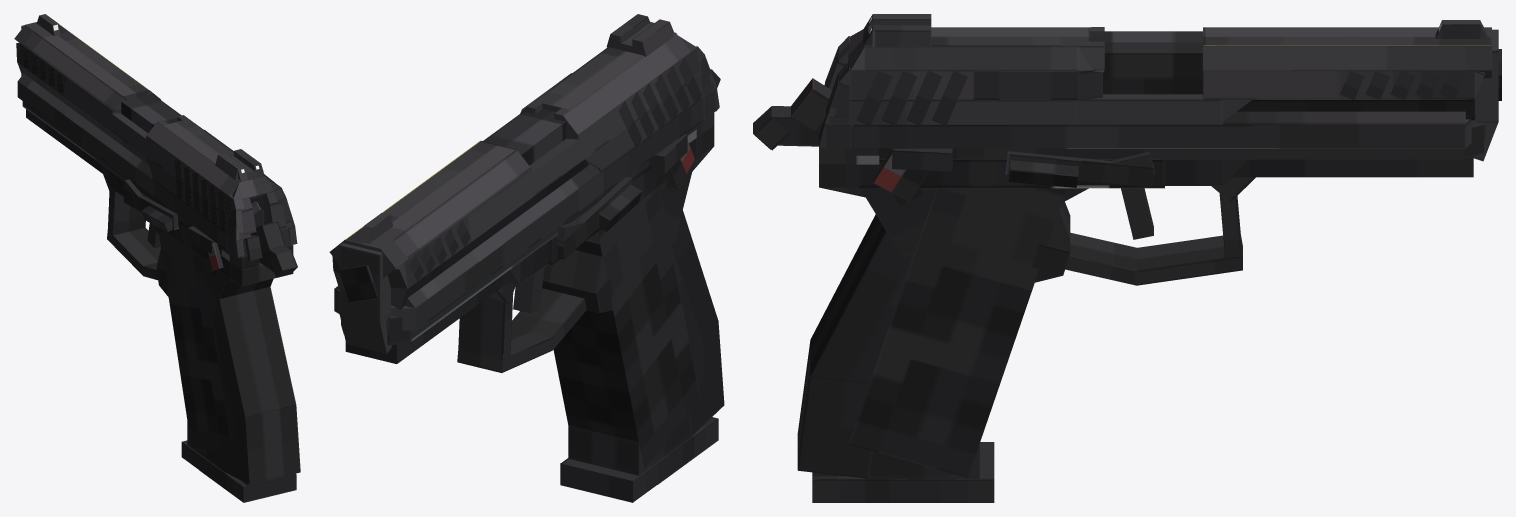
3 views of the same model, side by side, from view 1: azimuth 30°, elevation 25°; view 2: azimuth 150°, elevation 25°; view 3: azimuth 270°, elevation 25° (orthographic). The views are drawn at different scales.
Visible parts, largest first — view 1: gun_45, slide_87, magazine_3, hammer_4; view 2: gun_45, slide_87, magazine_3; view 3: gun_45, slide_87, magazine_3, hammer_4.
Part boxes in pixels (left/top/right/bottom): gun_45: left=22, top=94, right=300, bottom=484; slide_87: left=14, top=14, right=297, bottom=258; magazine_3: left=181, top=281, right=296, bottom=502; hammer_4: left=251, top=221, right=297, bottom=277; gun_45: left=338, top=109, right=724, bottom=475; slide_87: left=329, top=14, right=719, bottom=353; magazine_3: left=560, top=417, right=718, bottom=502; gun_45: left=797, top=31, right=1501, bottom=478; slide_87: left=819, top=14, right=1498, bottom=161; magazine_3: left=812, top=442, right=994, bottom=502; hammer_4: left=753, top=78, right=831, bottom=150.
Bounding box in the file's own units: 0.3104 × 1.21 × 1.78.
